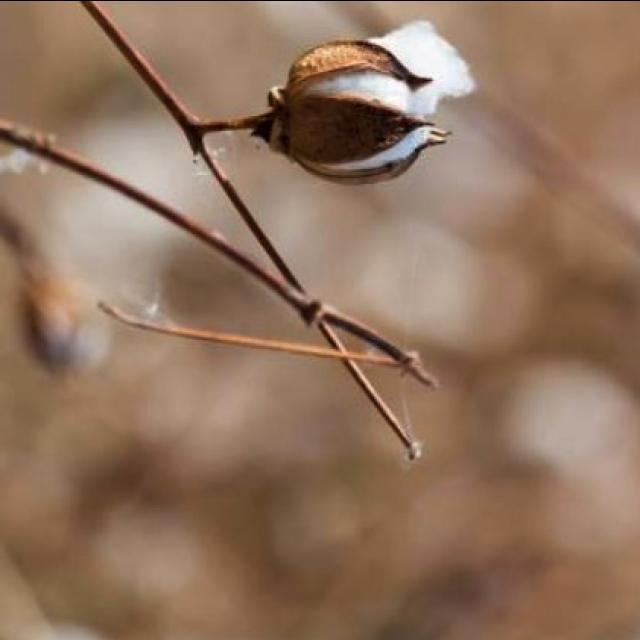Split Cotton Boll: (278, 29, 470, 174)
